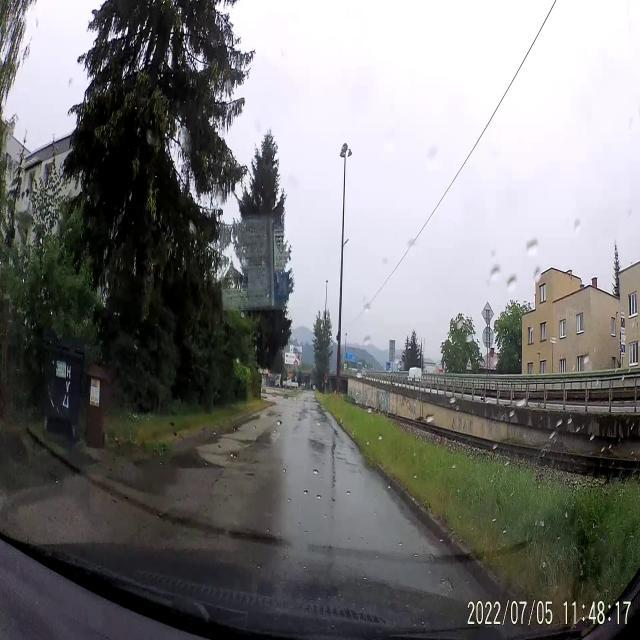Pothole: (242, 467, 258, 487), (296, 404, 310, 426), (319, 406, 328, 428), (264, 408, 282, 418)
